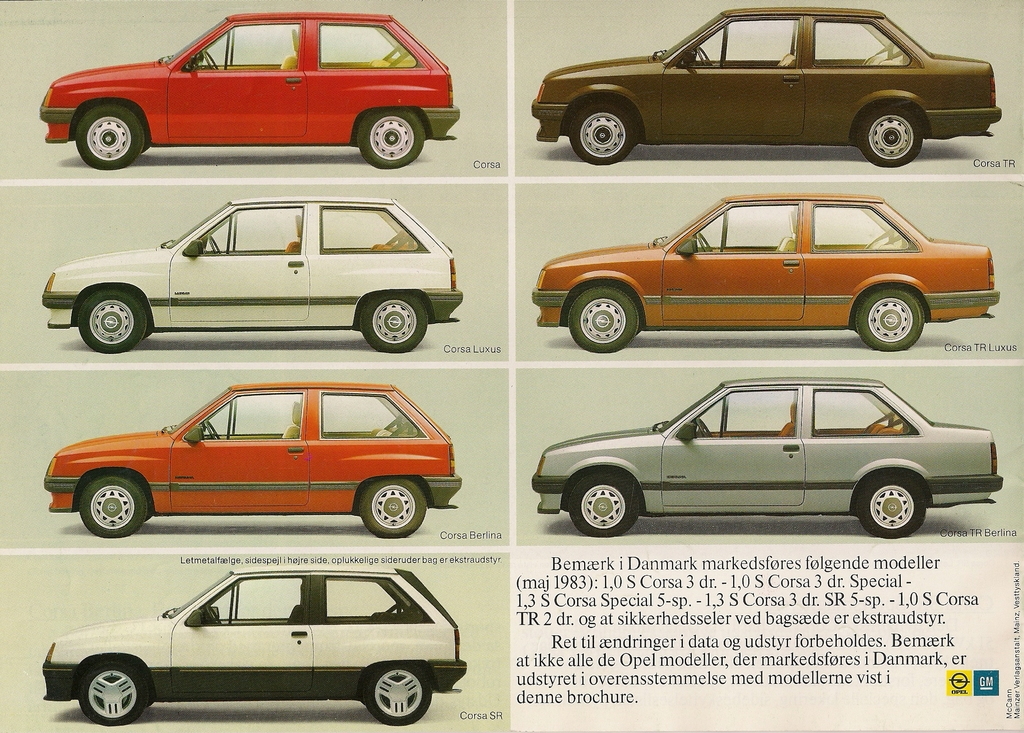mobil: (530, 190, 999, 355), (530, 2, 1001, 166), (532, 376, 1001, 529), (38, 192, 468, 355), (41, 565, 465, 730), (36, 8, 464, 171), (35, 385, 463, 541)
